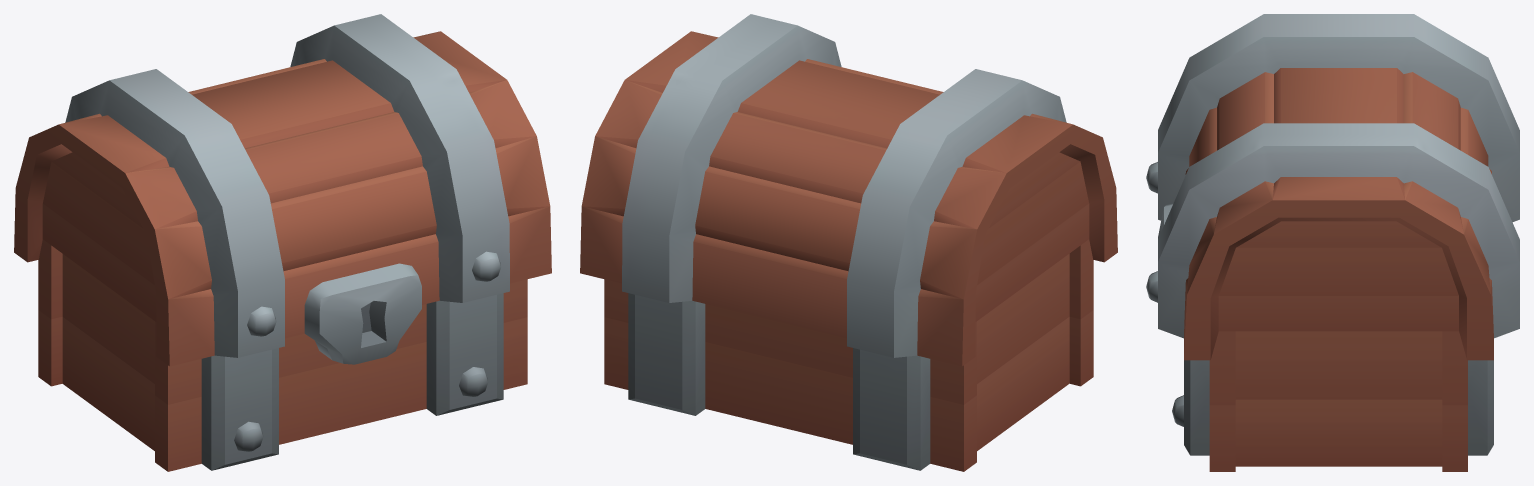
Rendered from d_kaykit_coffre_dore.glb.
3 views of the same model, side by side, from view 1: azimuth 30°, elevation 25°; view 2: azimuth 150°, elevation 25°; view 3: azimuth 270°, elevation 25° (orthographic).
Parts seen in each view (by area): view 1: d_kaykit_coffre_dore; view 2: d_kaykit_coffre_dore; view 3: d_kaykit_coffre_dore.
Boxes of the visible parts, x1,y1,x2,y2 form: d_kaykit_coffre_dore: (14, 14, 551, 471); d_kaykit_coffre_dore: (580, 14, 1117, 471); d_kaykit_coffre_dore: (1146, 14, 1519, 471).
Bounding box in the file's own units: 1.7 × 1.3 × 1.45.
Materials: 1 (1 with a texture image).
